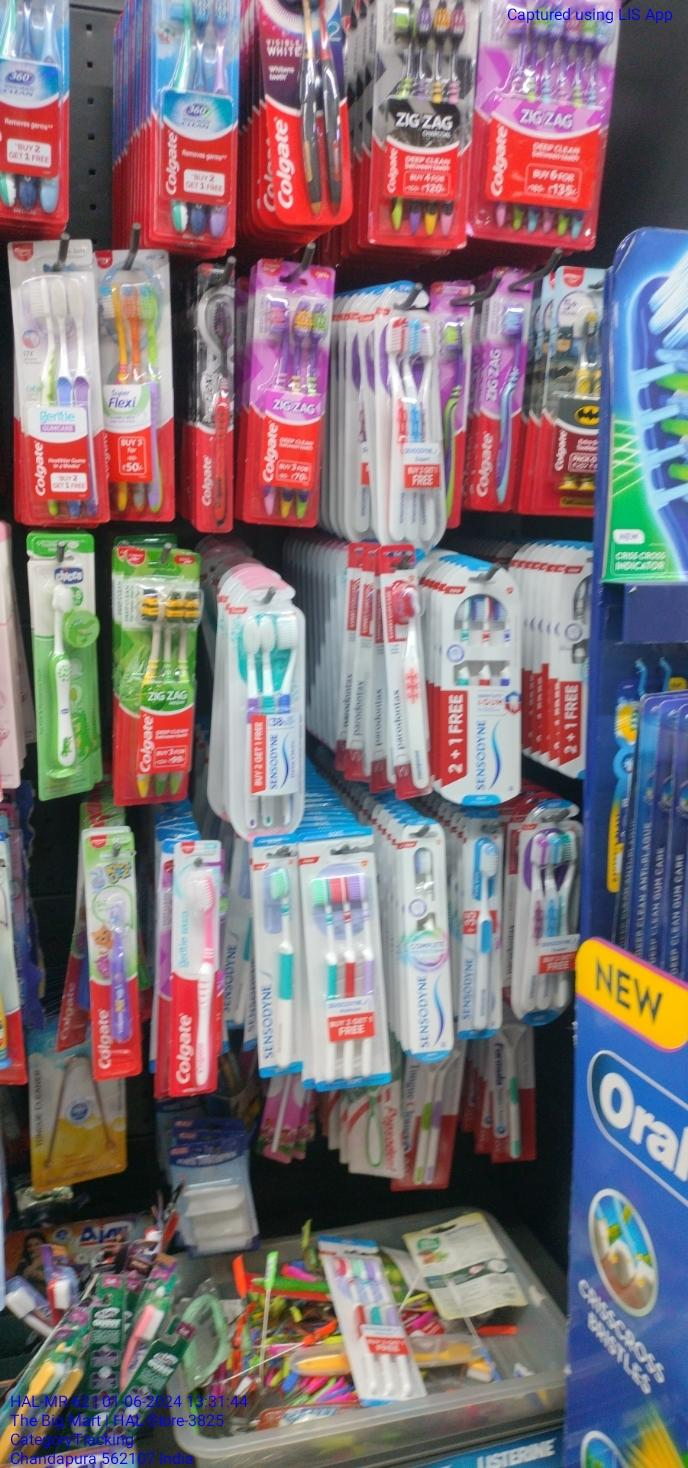16: (430, 565, 518, 808)
5: (226, 586, 302, 833)
6: (377, 285, 442, 546), (515, 805, 571, 1025)
8: (298, 840, 386, 1089)
liquid soap: (376, 1, 467, 251)
